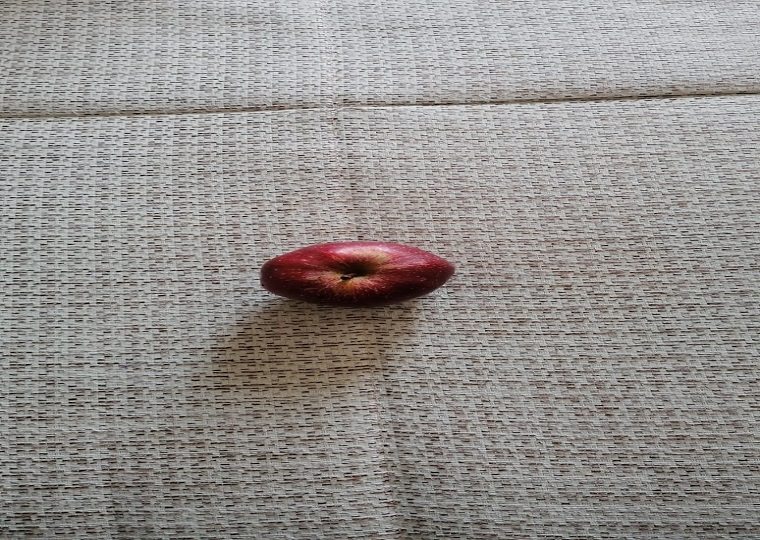elma: (259, 240, 458, 309)
